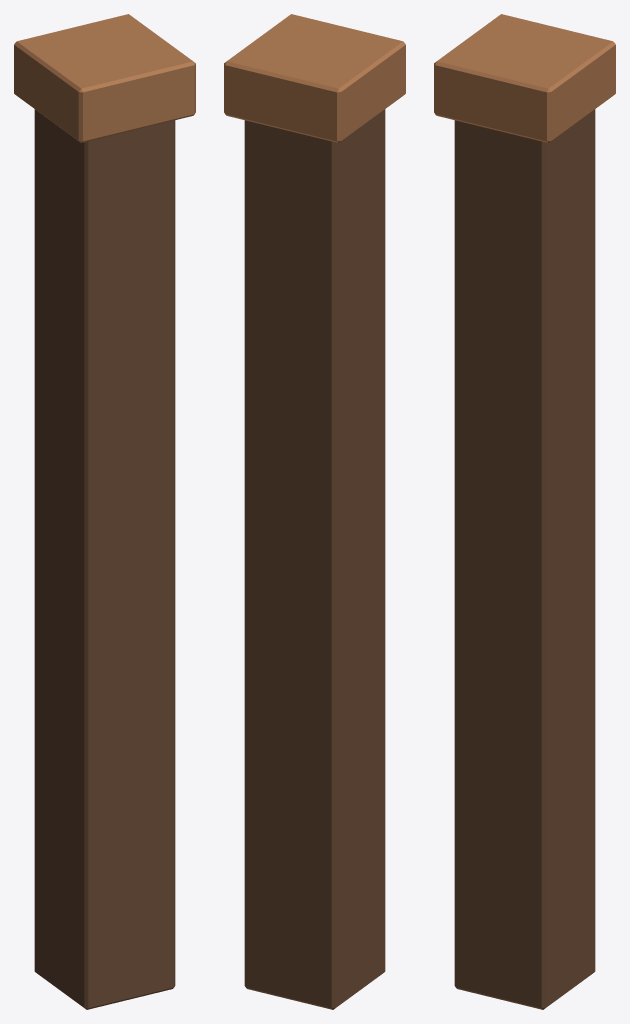
File: wood_post_tall_01.glb
3 renders of one model, left to right at view 1: azimuth 30°, elevation 25°; view 2: azimuth 150°, elevation 25°; view 3: azimuth 330°, elevation 25°, orthographic.
Parts seen in each view (by area): view 1: wood_post_tall_01; view 2: wood_post_tall_01; view 3: wood_post_tall_01.
Boxes of the visible parts, x1,y1,x2,y2 form: wood_post_tall_01: [14, 14, 195, 1009]; wood_post_tall_01: [224, 14, 405, 1009]; wood_post_tall_01: [434, 14, 615, 1009].
Bounding box in the file's own units: 0.18 × 1.37 × 0.18.
